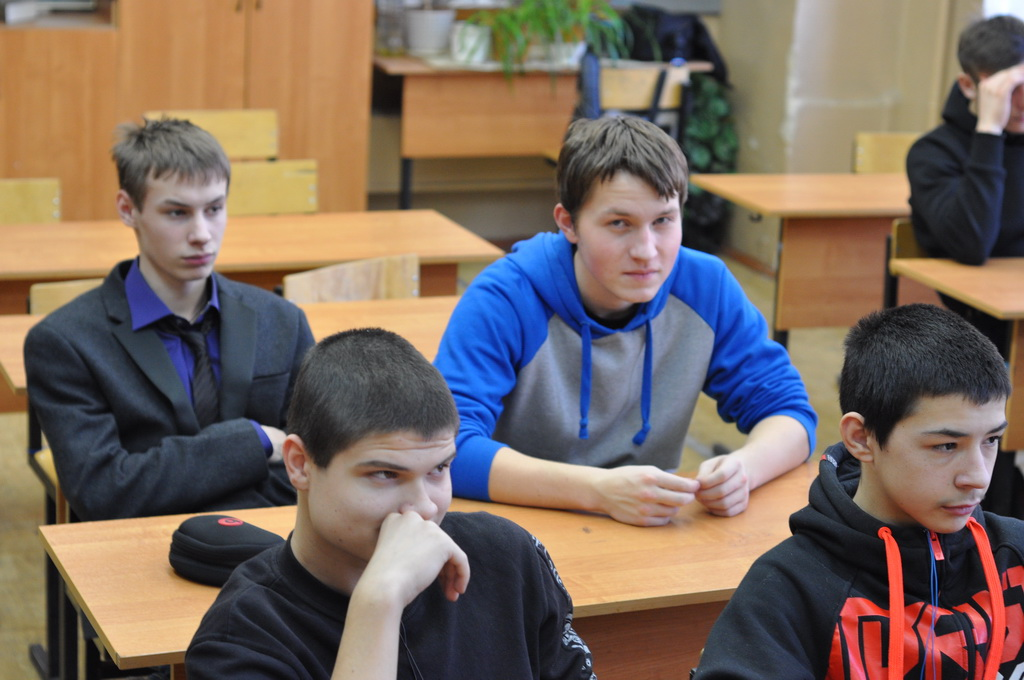students: (431, 112, 818, 527), (183, 325, 596, 679), (22, 115, 325, 525), (695, 300, 1024, 676), (904, 15, 1024, 264)
